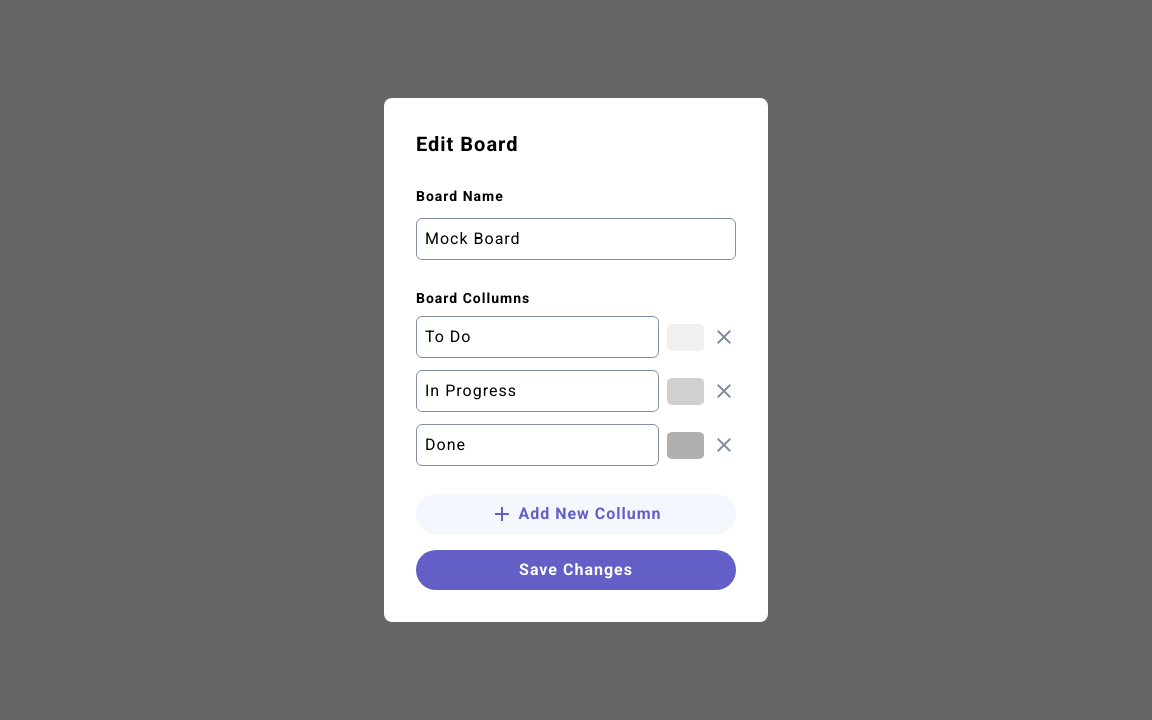
Scenario: BoardConfigModal › should show validation errot if collumn name is missing
Clear the 1st field showing "To Do" at (537,337), box [416,316,659,358]
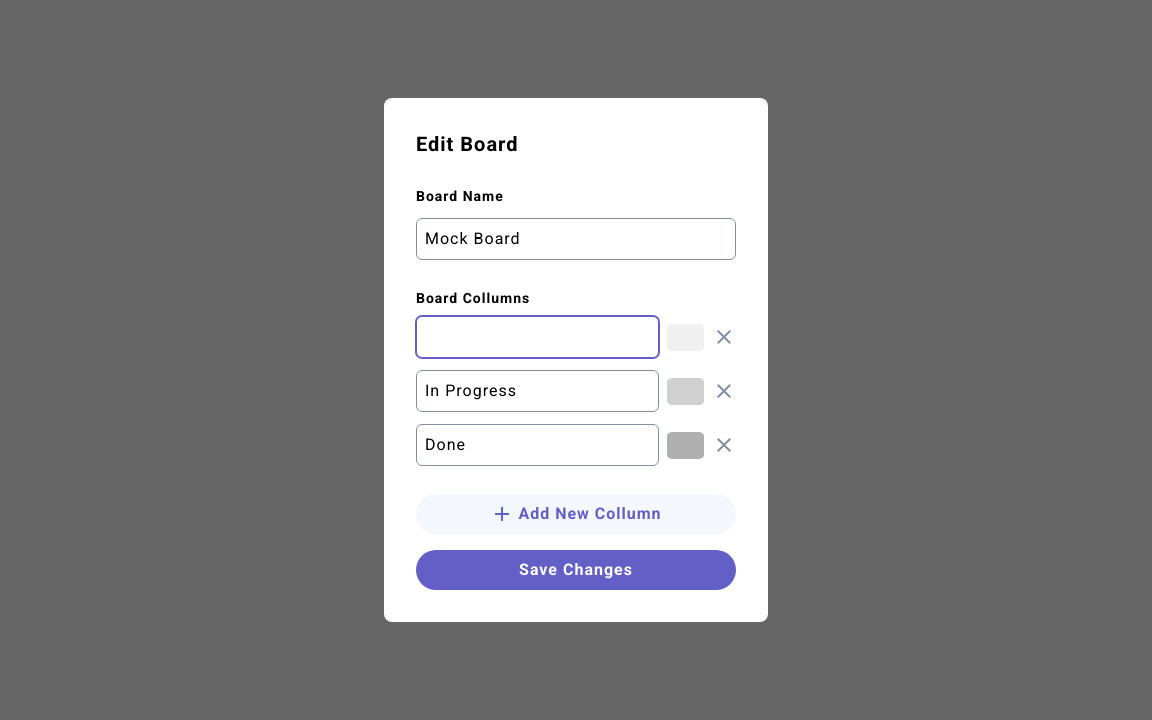
Click the button "Save Changes" at (576,570), box [416,550,736,590]
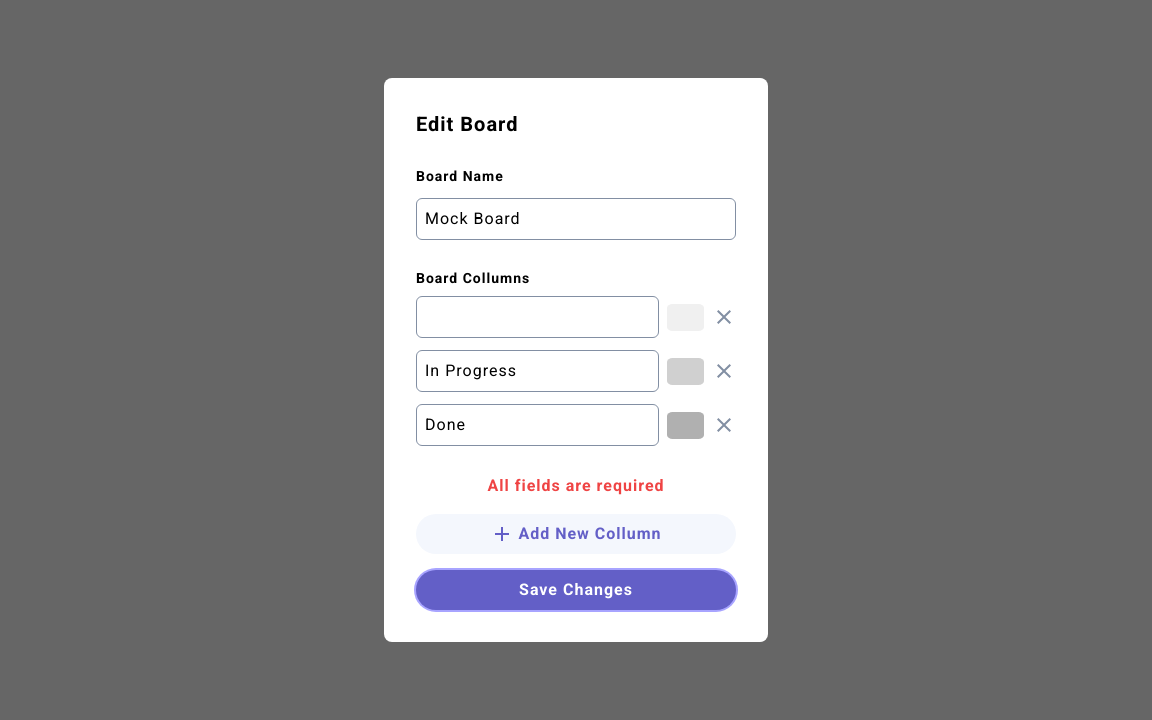
Now the text "All fields are required" is shown, box [488,476,665,495]
